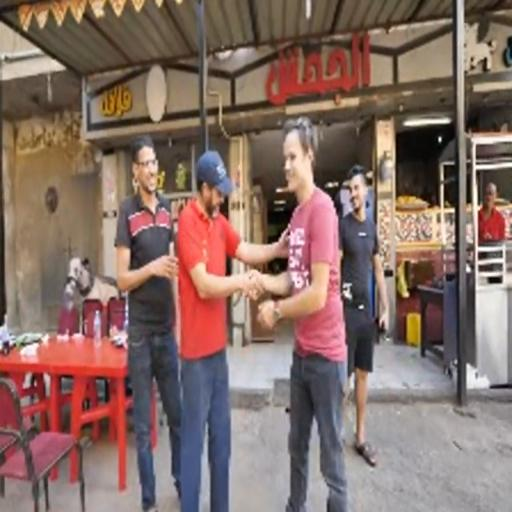nao-violencia: (162, 107, 355, 512)
